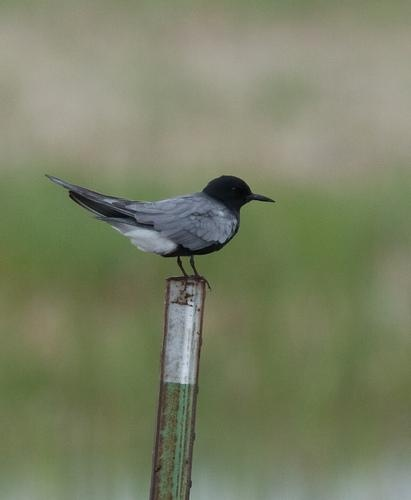bird: (42, 171, 271, 292)
